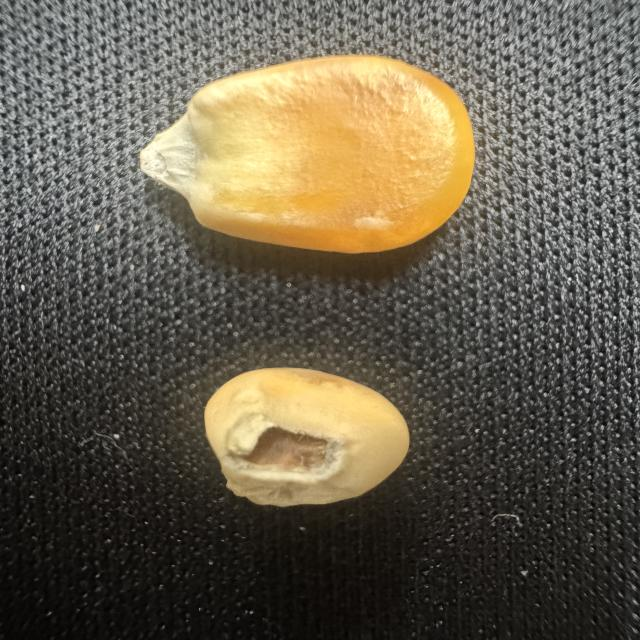Bad-Seed: (191, 350, 423, 530)
Good-Seed: (132, 42, 487, 268)
